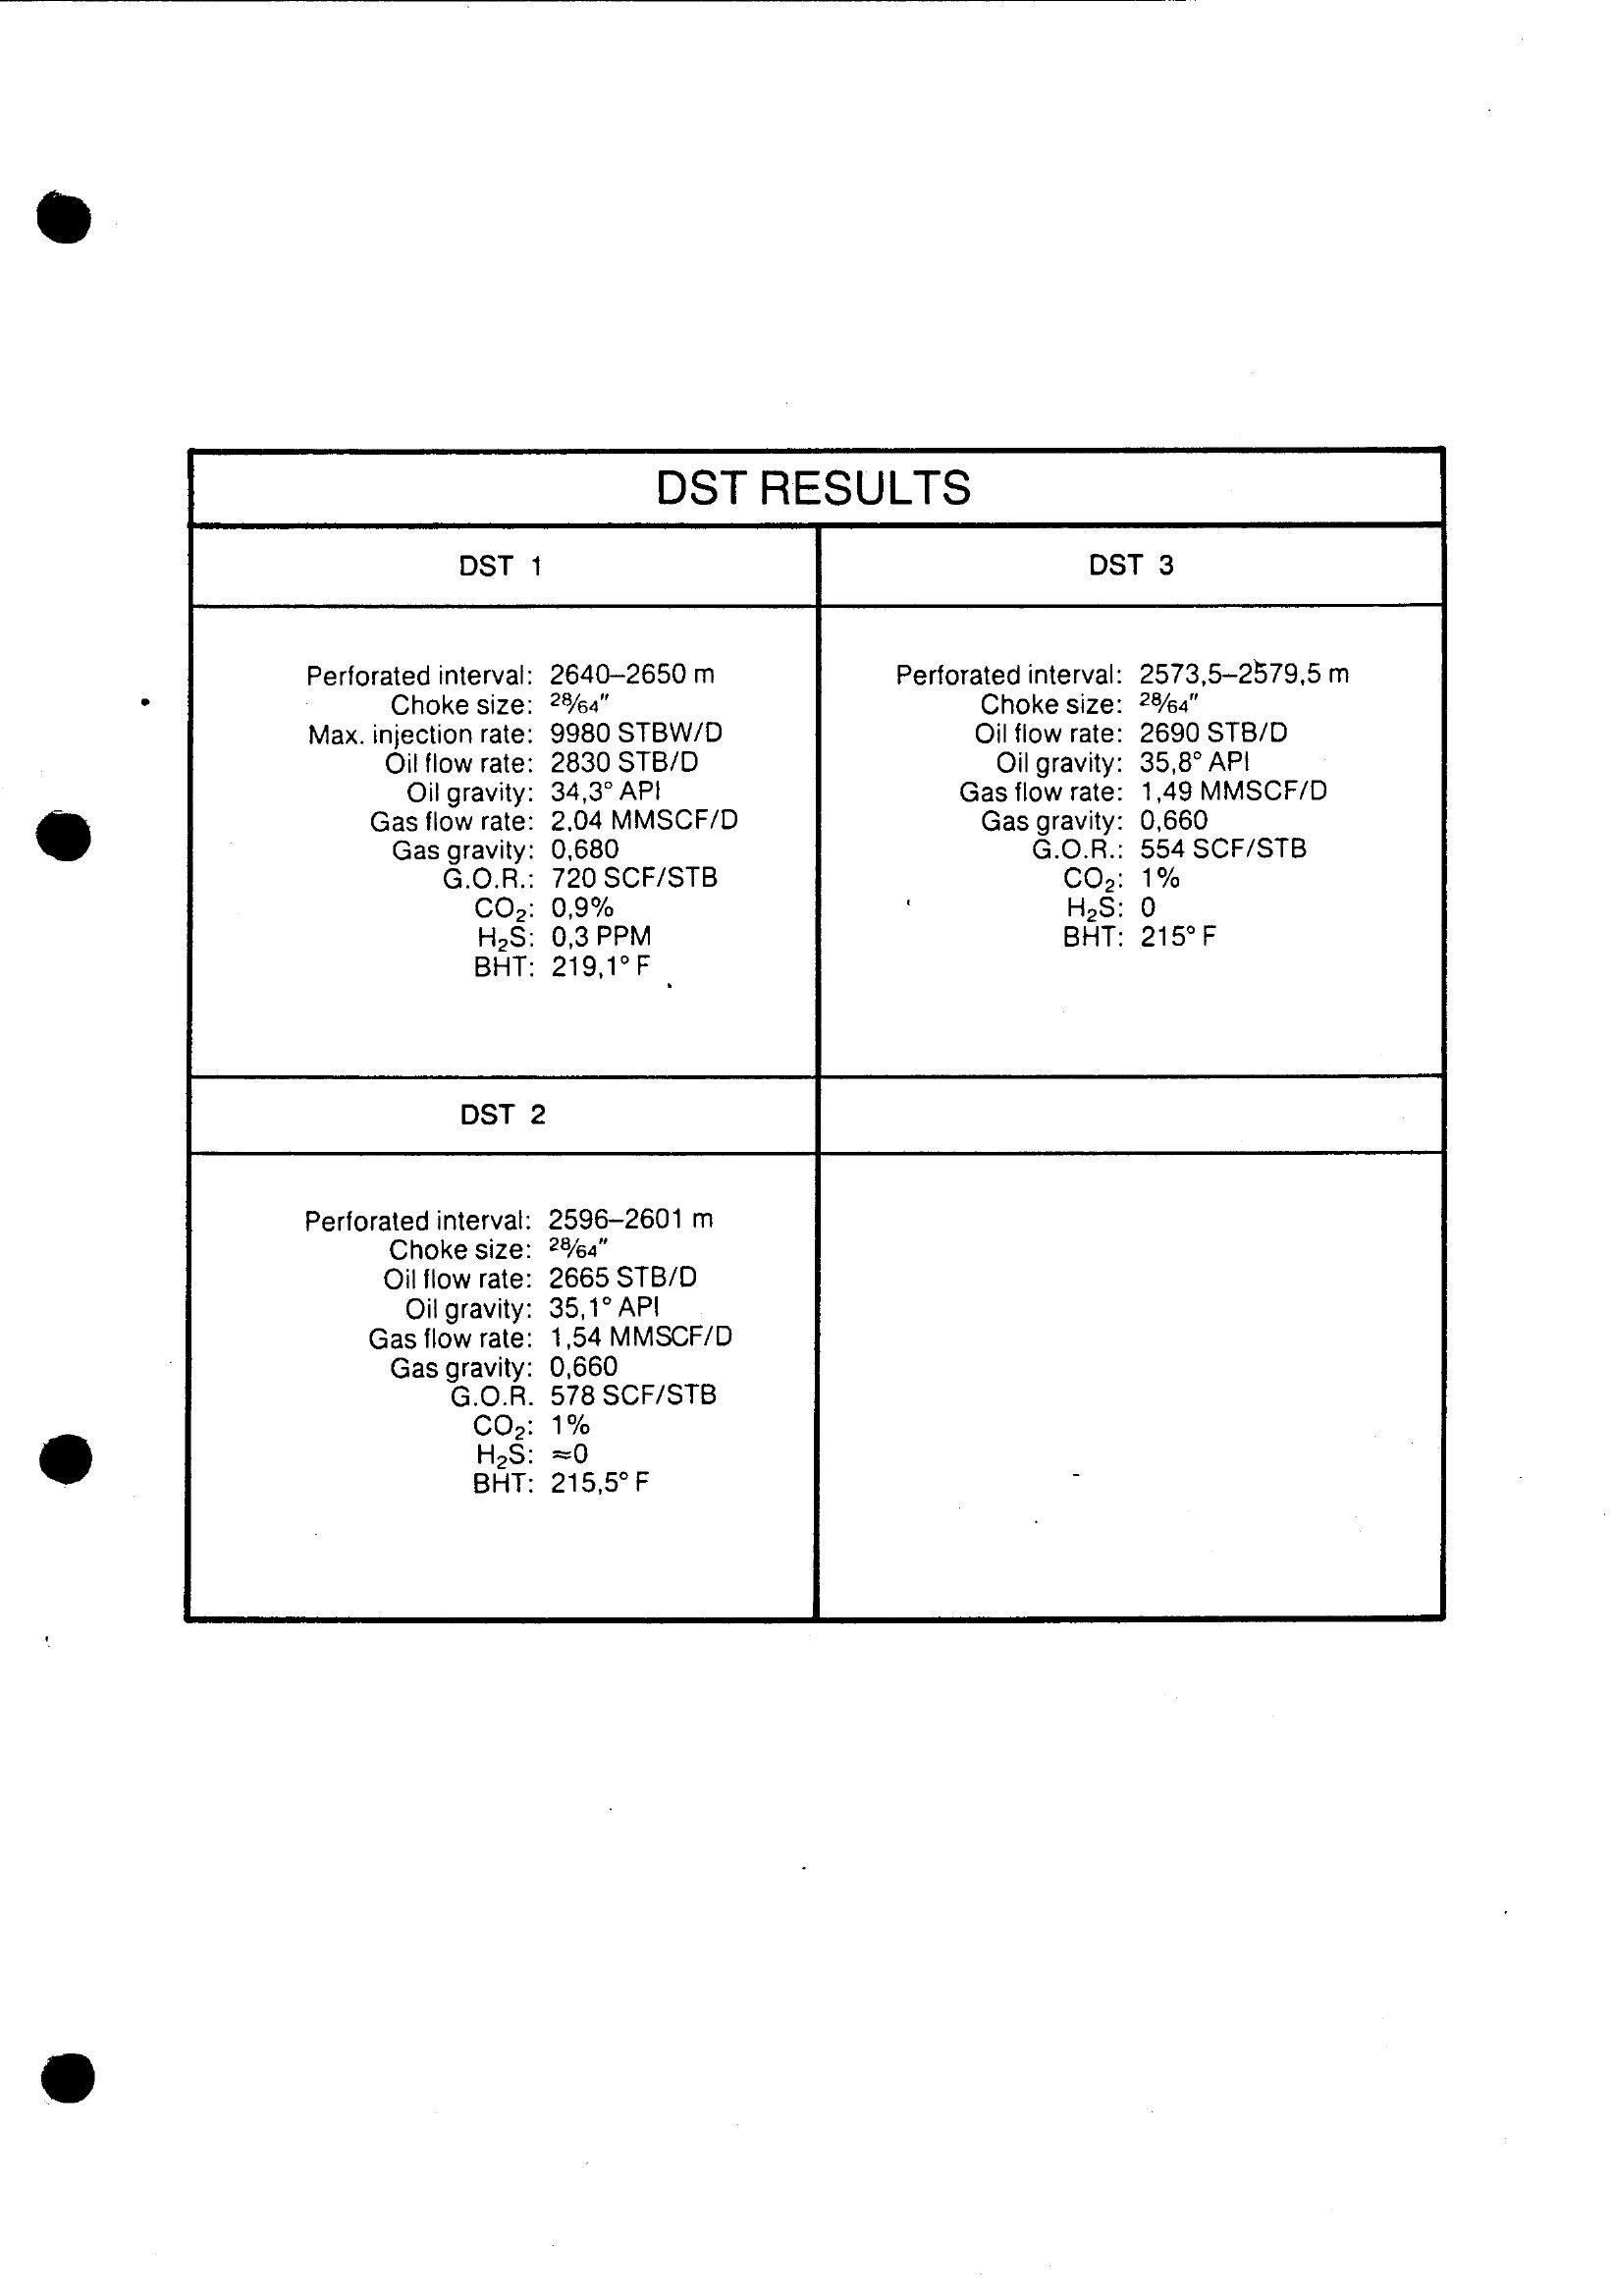graph: (183, 426, 1493, 1662)
